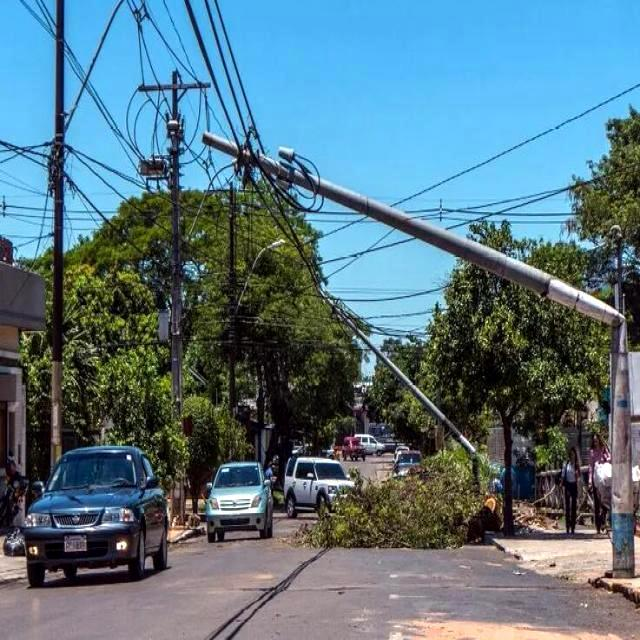Broken Pole: (202, 130, 635, 576), (319, 287, 479, 501)
